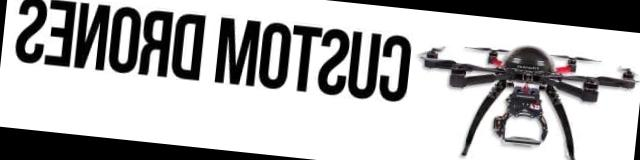drone: (404, 18, 640, 141)
